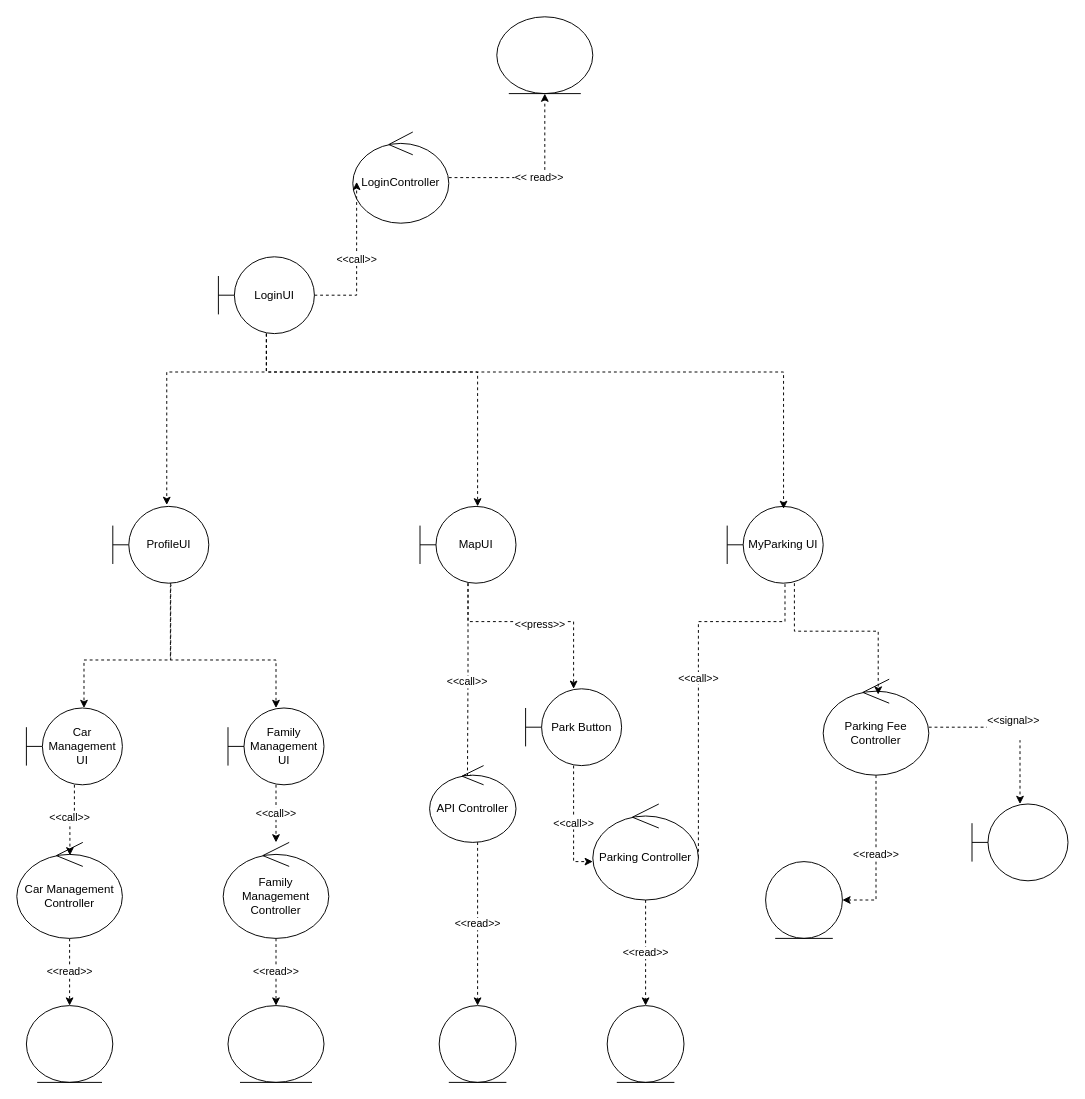
Image size: 1085x1099. Some labels were removed from this diagram. Each missing label, with the centre of its shape:
Car: pixel 69 1043
CarPark: pixel 477 1043
Family: pixel 275 1043
Notification Alert: pixel 1019 842
Parking Entry: pixel 645 1043
Parking Fee: pixel 803 899
User: pixel 544 55
